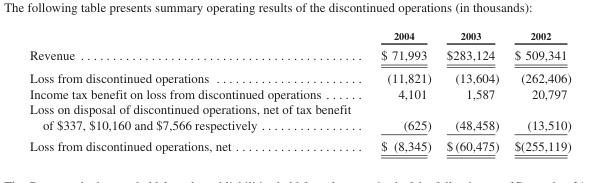table: (28, 28, 570, 152)
table column: (28, 28, 365, 152), (365, 28, 438, 152), (438, 28, 506, 152), (506, 28, 570, 152)
table column header: (28, 28, 570, 44)
table row: (28, 101, 570, 134), (28, 44, 570, 66), (28, 66, 570, 85), (28, 134, 570, 152), (28, 28, 570, 44), (28, 85, 570, 101)
